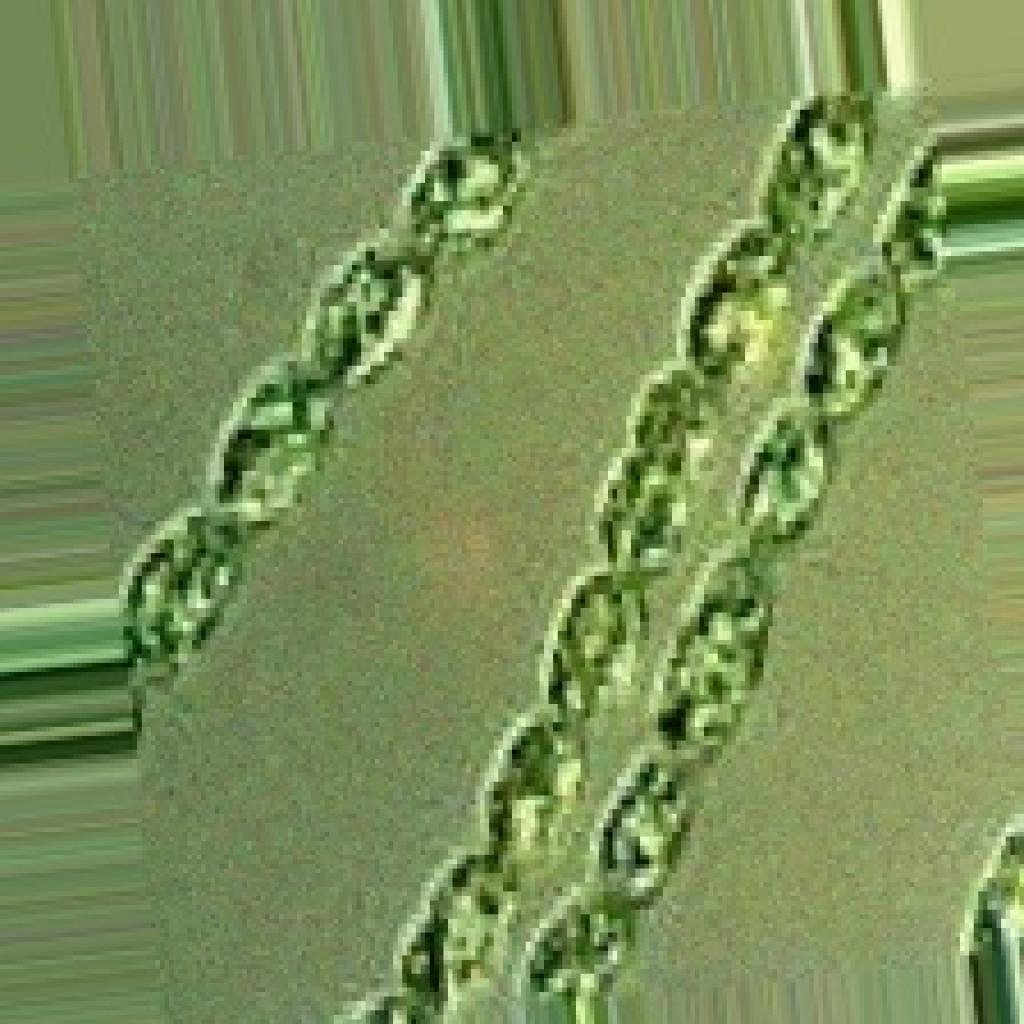Microalgae: (128, 146, 494, 700)
